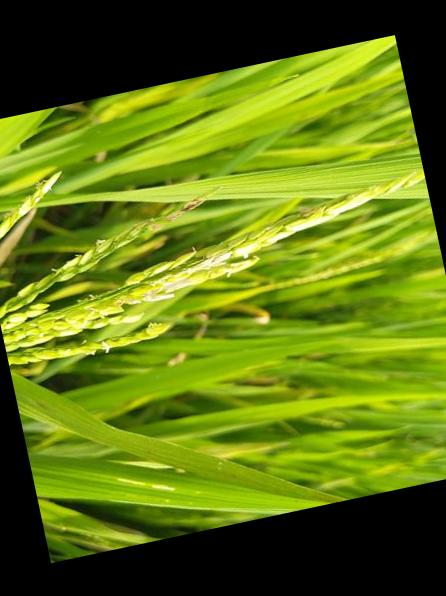Panicle Blight: (1, 166, 423, 350), (113, 192, 211, 248), (12, 170, 56, 219)
